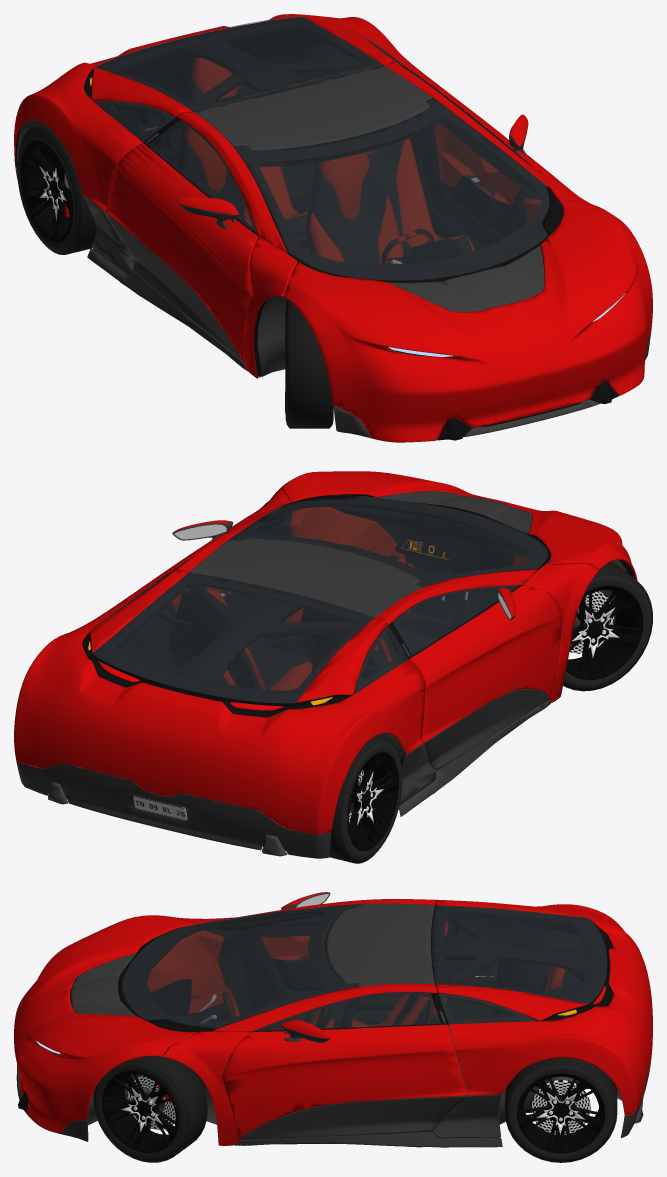
Rendered from car_hero.glb.
3 views of the same model, one above another, from view 1: azimuth 30°, elevation 25°; view 2: azimuth 150°, elevation 25°; view 3: azimuth 270°, elevation 25° (orthographic). The views are drawn at different scales.
Visible parts, largest first — view 1: BodyHood, BodyWindshield, BodyRearwindow, BodyDoorRColor1, BodyRearPanelsColor1, BodyRoofPanel, BodyWindshieldGasket, InteriorSeatsColor1, InteriorSeatsColor2, BodyPillars, InteriorPillar, InteriorRearHatch (+20 smaller); view 2: BodyRearPanelsColor1, BodyRearwindow, BodyWindshield, BodyDoorRColor1, BodyPanelsColor2, BodyRoofPanel, BodyHood, InteriorRearHatch, BodyPillars, InteriorPillar, BodyWindshieldGasket, InteriorDashMid (+21 smaller); view 3: BodyWindshield, BodyRearPanelsColor1, BodyDoorLColor1, BodyHood, BodyRearwindow, BodyRoofPanel, BodyPillars, BodyWindshieldGasket, BodyDoorLColor2, BodyPanelsColor2, WheelFrontL, InteriorRearHatch (+24 smaller).
Part boxes in pixels (box(x1,y1,x2,y2)): BodyHood: box(283, 198, 652, 442); BodyWindshield: box(234, 98, 549, 280); BodyRearwindow: box(95, 16, 382, 111); BodyDoorRColor1: box(104, 143, 257, 363); BodyRearPanelsColor1: box(14, 14, 429, 210); BodyRoofPanel: box(193, 65, 432, 150); BodyWindshieldGasket: box(234, 99, 563, 282); InteriorSeatsColor1: box(185, 57, 475, 264); InteriorSeatsColor2: box(180, 78, 472, 264); BodyPillars: box(176, 61, 598, 378); InteriorPillar: box(158, 37, 434, 168); InteriorRearHatch: box(93, 17, 383, 117); BodyRearPanelsColor1: box(14, 569, 425, 834); BodyRearwindow: box(92, 572, 373, 703); BodyWindshield: box(229, 496, 547, 587); BodyDoorRColor1: box(409, 585, 562, 742); BodyPanelsColor2: box(16, 700, 550, 858); BodyRoofPanel: box(189, 537, 422, 617); BodyHood: box(279, 471, 637, 580); InteriorRearHatch: box(93, 573, 386, 707); BodyPillars: box(175, 489, 599, 702); InteriorPillar: box(174, 574, 417, 682); BodyWindshieldGasket: box(230, 496, 550, 587); InteriorDashMid: box(332, 503, 528, 622); BodyWindshield: box(122, 904, 358, 1028); BodyRearPanelsColor1: box(436, 899, 652, 1115); BodyDoorLColor1: box(222, 1024, 467, 1139); BodyHood: box(14, 915, 196, 1133); BodyRearwindow: box(432, 905, 607, 1004); BodyRoofPanel: box(326, 903, 434, 986); BodyPillars: box(163, 899, 437, 1145); BodyWindshieldGasket: box(118, 905, 357, 1032); BodyDoorLColor2: box(240, 1096, 467, 1140); BodyPanelsColor2: box(16, 1050, 652, 1147); WheelFrontL: box(93, 1054, 207, 1162); InteriorRearHatch: box(431, 905, 606, 1020).
Size of the model in its own units: 2.54 by 1.15 by 4.36.
Materials: 23 (3 with a texture image).
